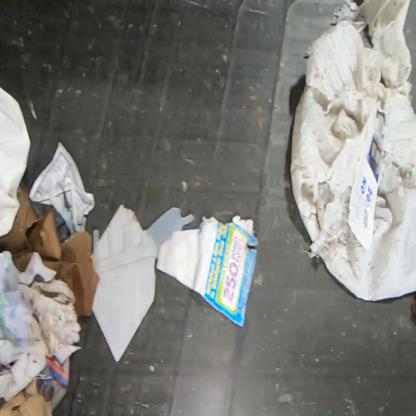cardboard: (91, 258, 157, 362), (100, 204, 143, 259), (0, 379, 53, 415)
rigid_plastic: (90, 206, 196, 274)
soft_plastic: (289, 0, 416, 302), (0, 85, 32, 238), (0, 250, 30, 348)
